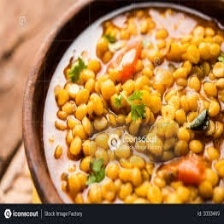sabzi: (43, 3, 224, 203)
